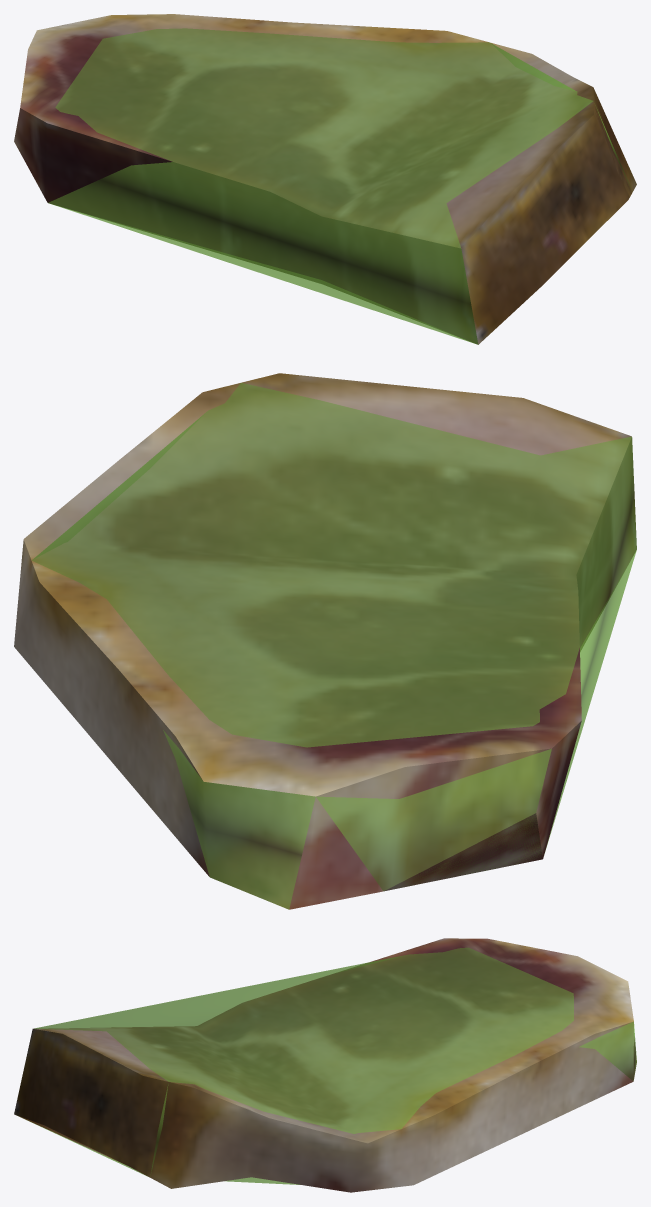
File: pg_Jamon_02_a.fbx
The picture shows the model from 3 angles, top to bottom: view 1: azimuth 30°, elevation 25°; view 2: azimuth 150°, elevation 25°; view 3: azimuth 270°, elevation 25°; orthographic projection. The views are drawn at different scales.
Parts seen in each view (by area): view 1: pg_Jamon_02_a_LOD0, pg_Jamon_02_a_col; view 2: pg_Jamon_02_a_LOD0, pg_Jamon_02_a_col; view 3: pg_Jamon_02_a_LOD0, pg_Jamon_02_a_col.
Part boxes in pixels (x1,y1,x2,y2): pg_Jamon_02_a_LOD0: (14, 14, 636, 344); pg_Jamon_02_a_col: (48, 28, 630, 344); pg_Jamon_02_a_LOD0: (14, 373, 636, 909); pg_Jamon_02_a_col: (32, 383, 636, 909); pg_Jamon_02_a_LOD0: (14, 938, 636, 1192); pg_Jamon_02_a_col: (25, 947, 636, 1184).
Size of what is drawn, in the model's own units: 8.15 by 2.36 by 10.79.
2 materials, 1 textured.
